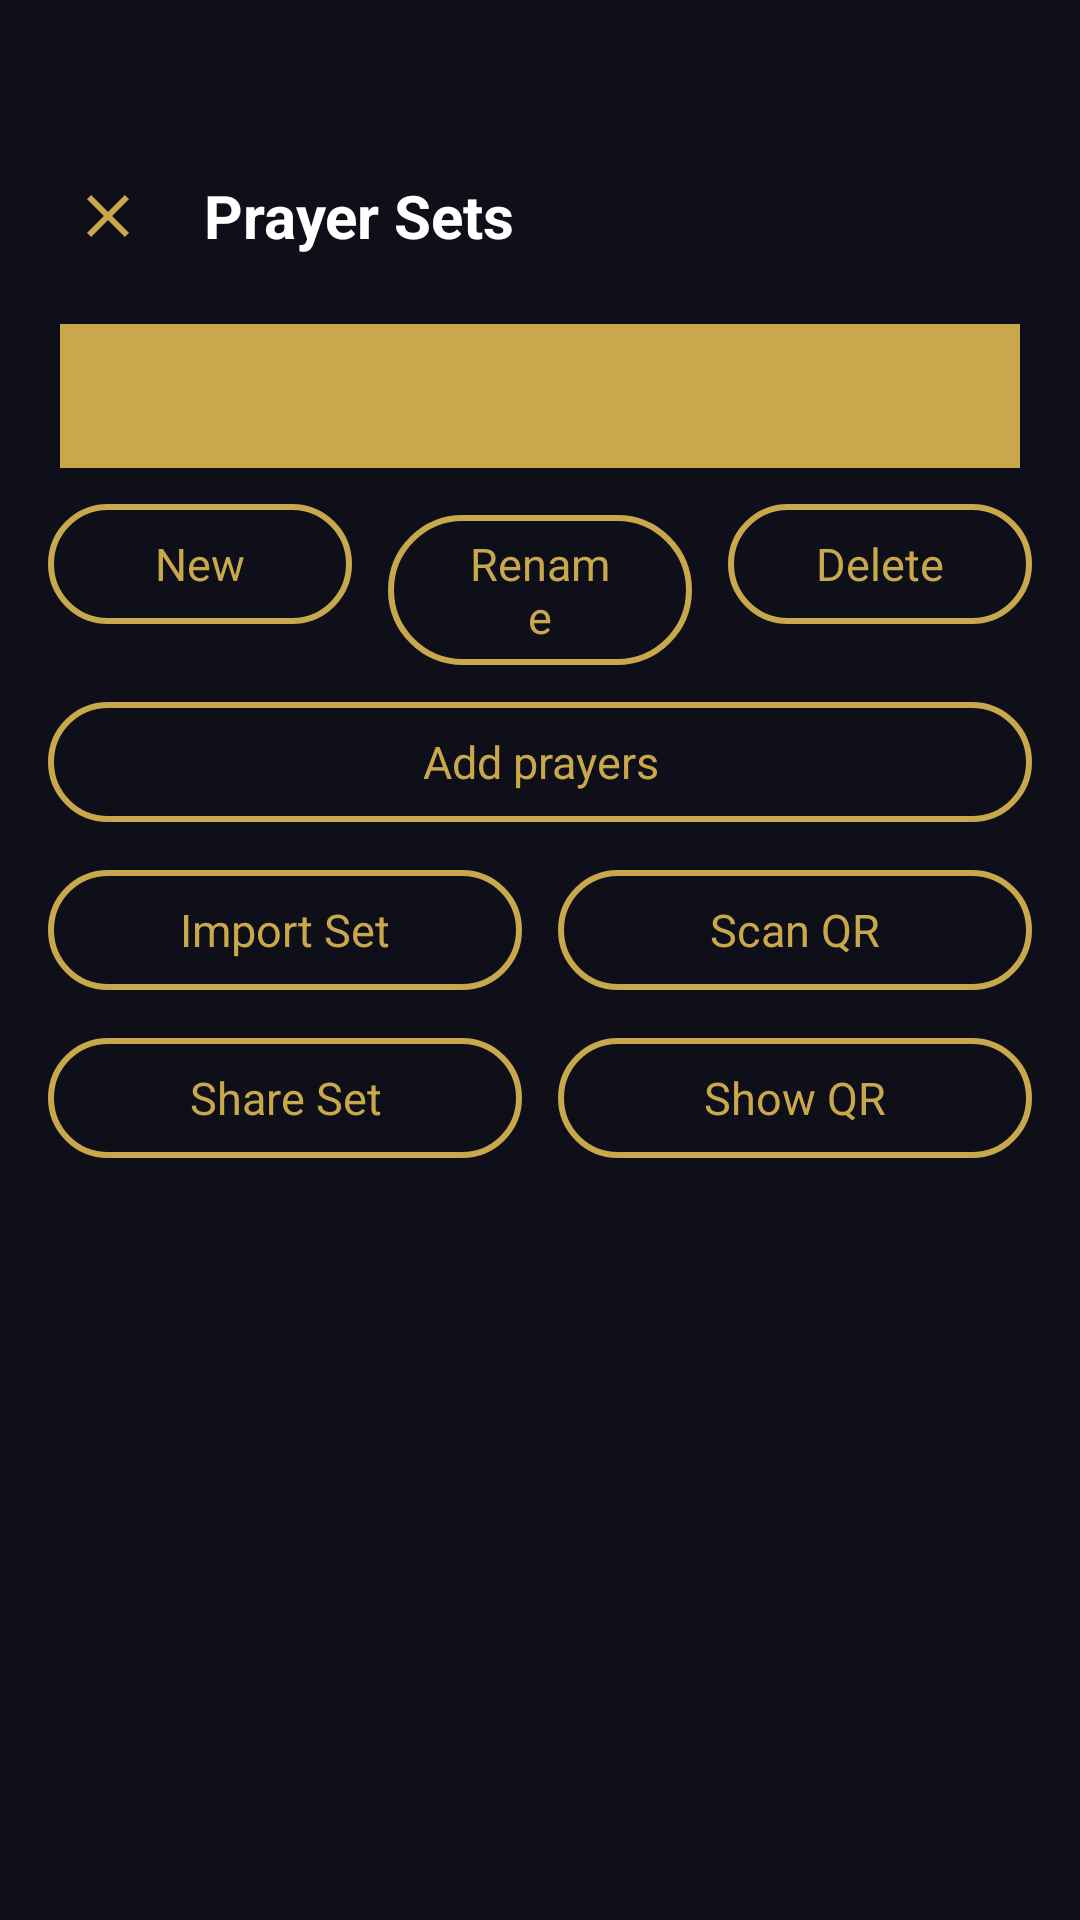

Icon bounding boxes for this 1080×1920 phone screenshot, format (x1, y1, x2, y2):
Close: (87, 195, 129, 237)
